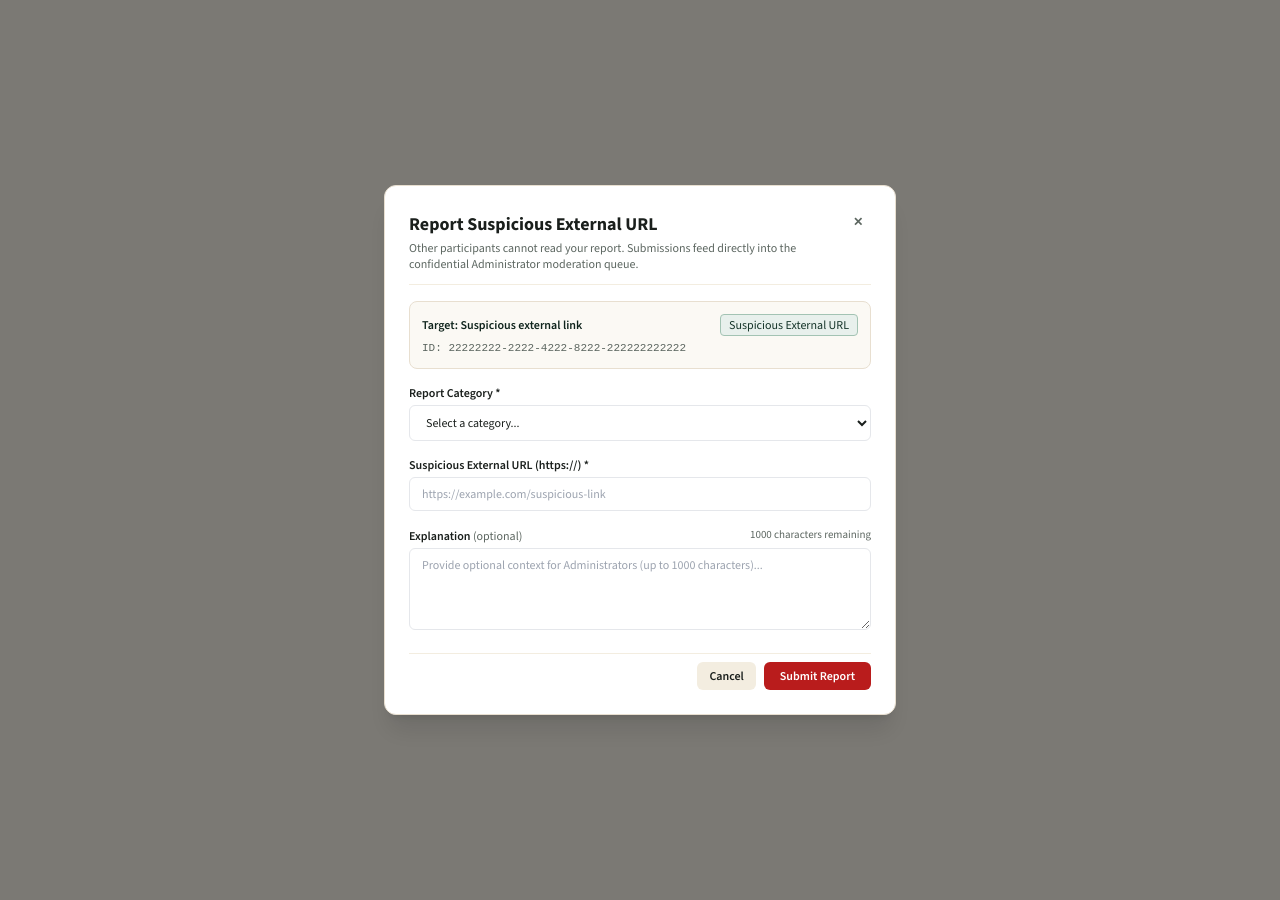
Test: ReportAbuseModal component (US-025 / #232 / #237) › renders flaggedUrl field and validates https URL when targetType is url
The image size is (1280, 900).
Check: the field with placeholder "https://example.com/suspicious-link" is shown, box [409,477,871,511]
Select "Phishing Link" in the dropdown labelled "Report Category *" at (640, 423), box [409,405,871,441]
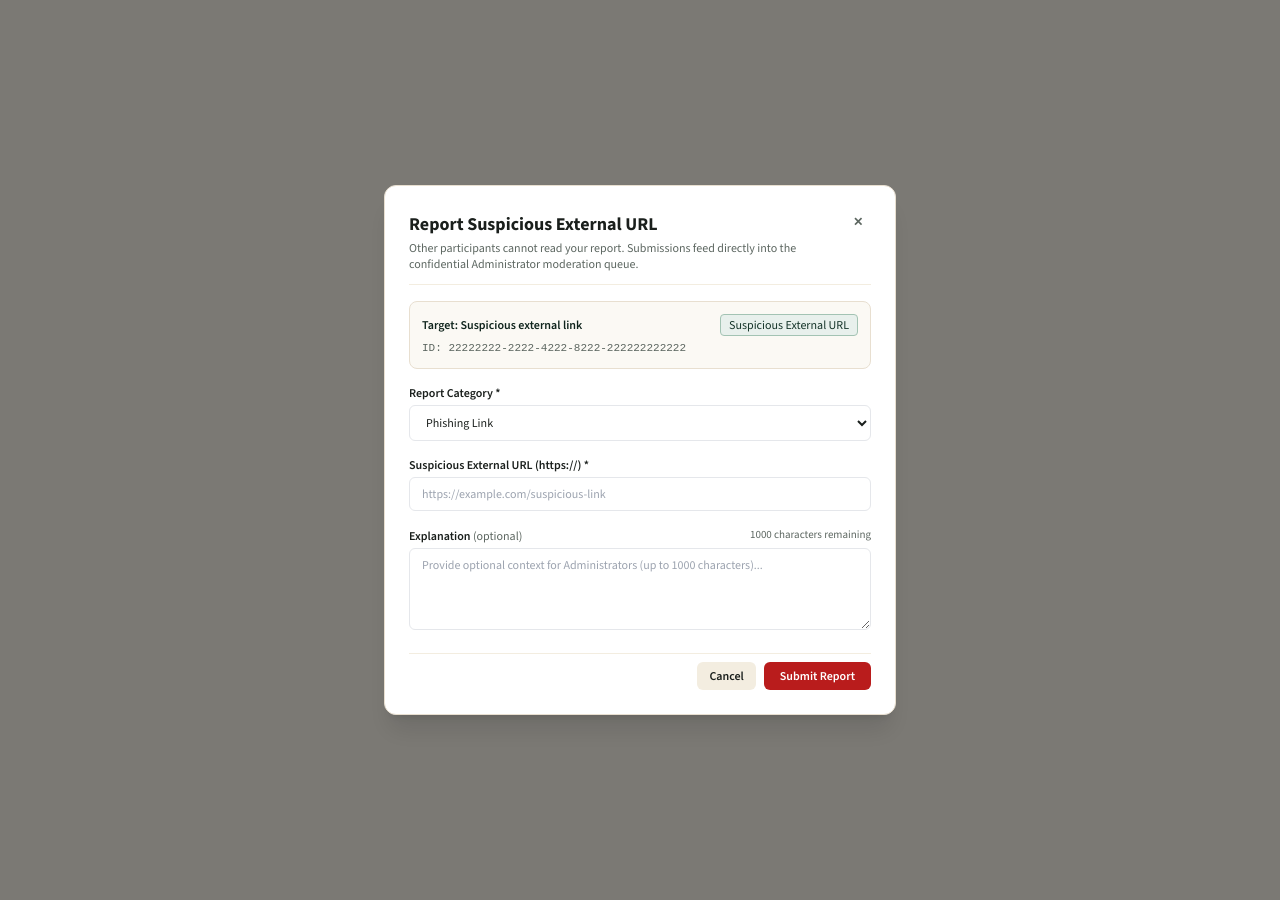
Type "http://insecure.url" into the field with placeholder "https://example.com/suspicious-link" at (640, 494), box [409,477,871,511]
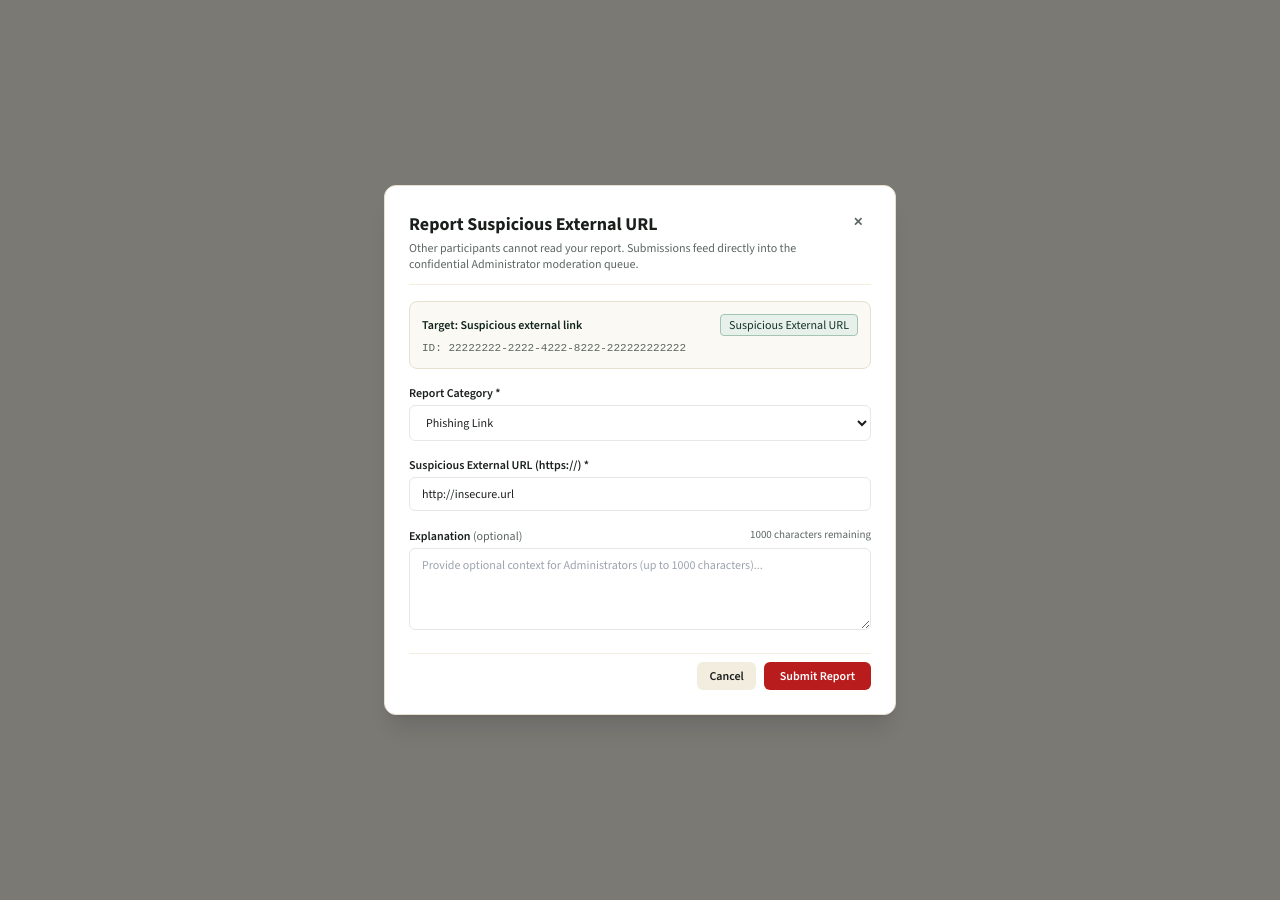
Click the button with test id "submit-report-btn" at (817, 676), box [764,662,871,690]
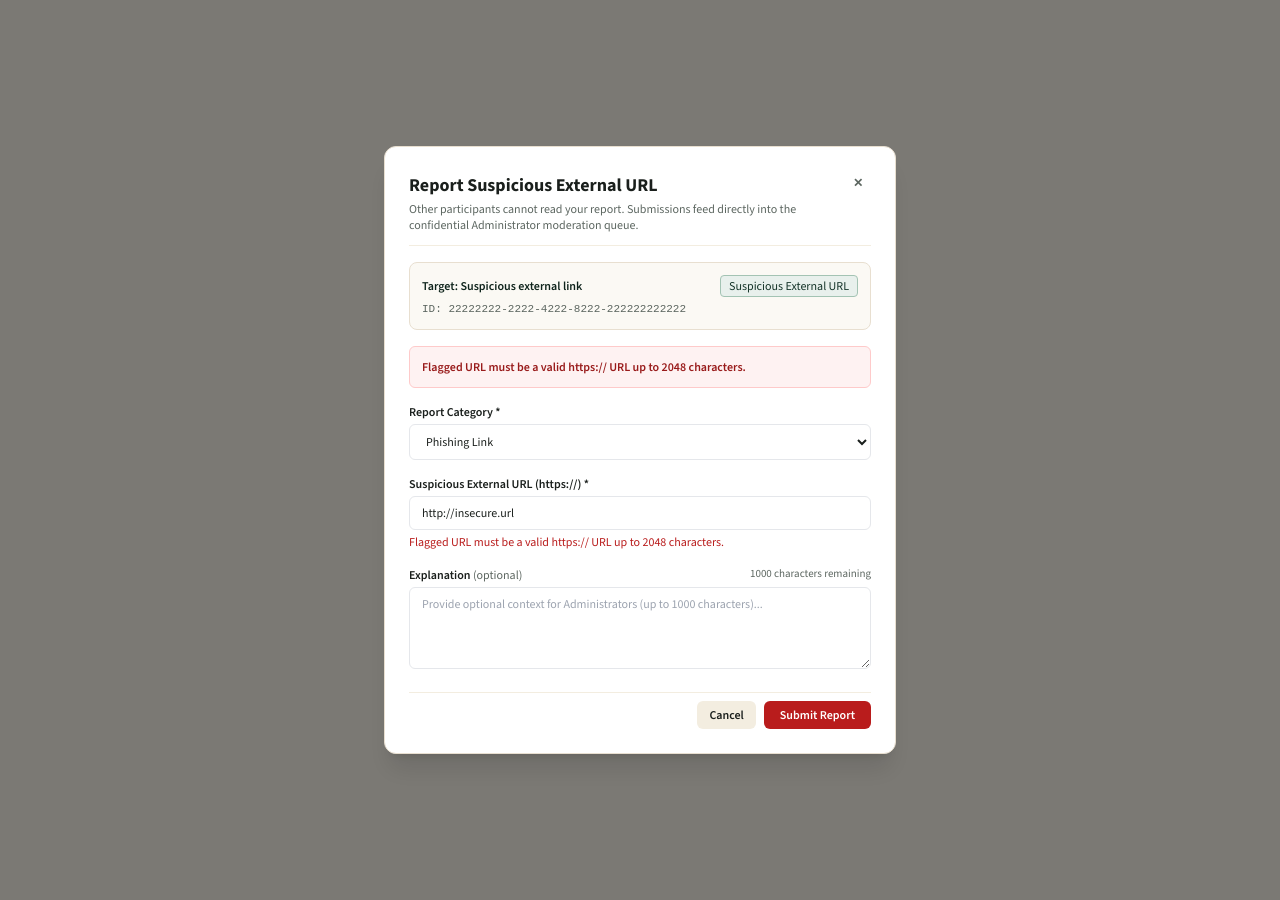
Check: the message shows "must be a valid https:// URL", box [422,359,746,375]
